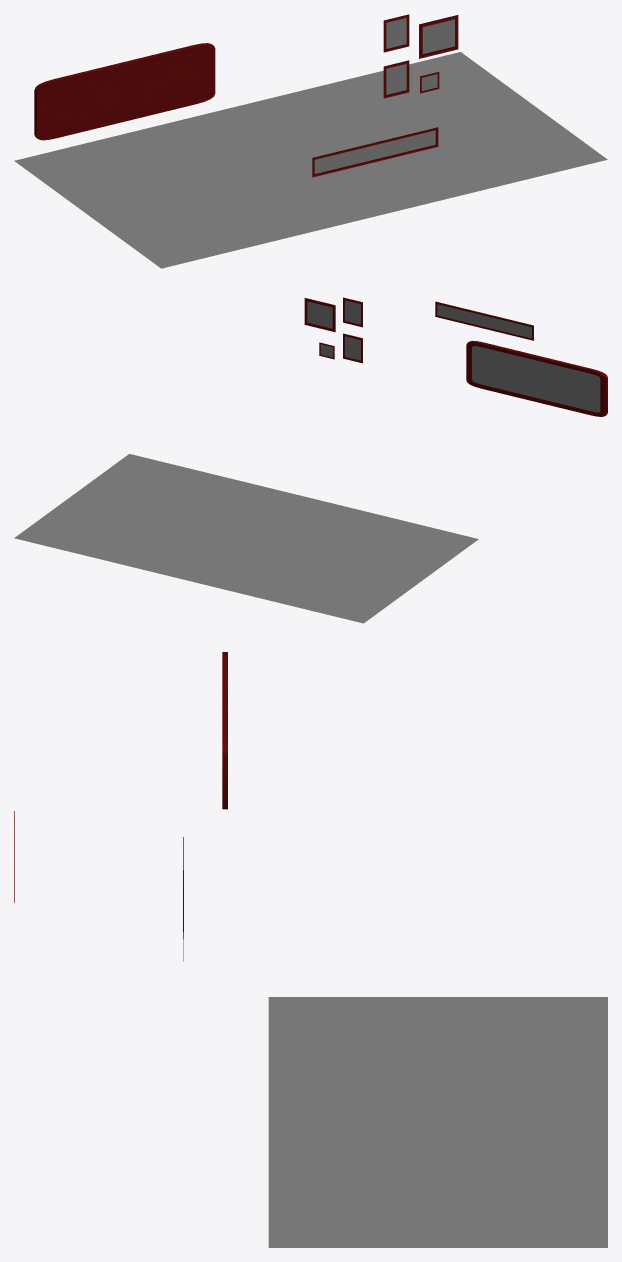
Rendered from Artworks.fbx.
3 views of the same model, one above another, from view 1: azimuth 30°, elevation 25°; view 2: azimuth 150°, elevation 25°; view 3: azimuth 270°, elevation 25° (orthographic). The views are drawn at different scales.
Visible parts, largest first — view 1: Carpet, Sign, Image1, Image4, Image2, Image3, Image5; view 2: Carpet, Sign, Image1, Image4, Image2, Image3; view 3: Carpet, Sign.
Part boxes in pixels (box(x1,y1,x2,y2)): Carpet: box(14, 52, 607, 268); Sign: box(34, 43, 215, 140); Image1: box(312, 127, 438, 177); Image4: box(419, 15, 458, 58); Image2: box(383, 14, 409, 52); Image3: box(383, 60, 409, 98); Image5: box(420, 72, 439, 93); Carpet: box(14, 454, 478, 623); Sign: box(466, 340, 607, 416); Image1: box(435, 301, 533, 340); Image4: box(304, 298, 335, 332); Image2: box(343, 297, 362, 327); Image3: box(343, 333, 362, 363); Carpet: box(268, 997, 607, 1247); Sign: box(222, 652, 227, 809).
Size of the model in its own units: 840 by 316 by 635.
